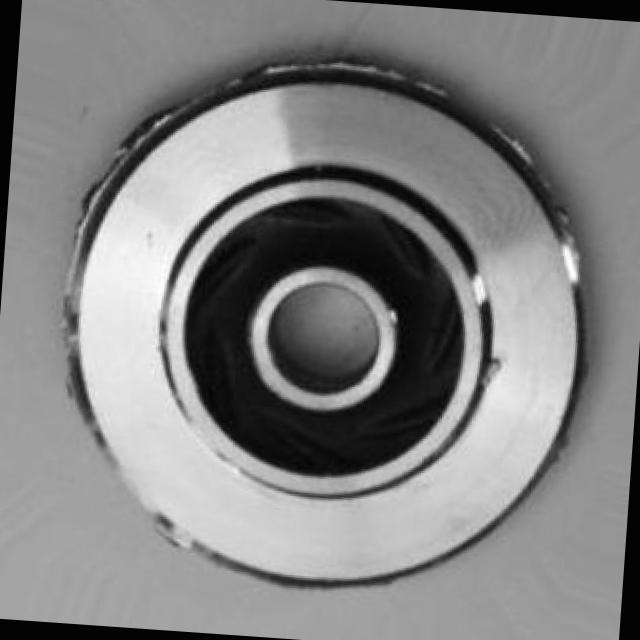Defect: (533, 183, 604, 284)
